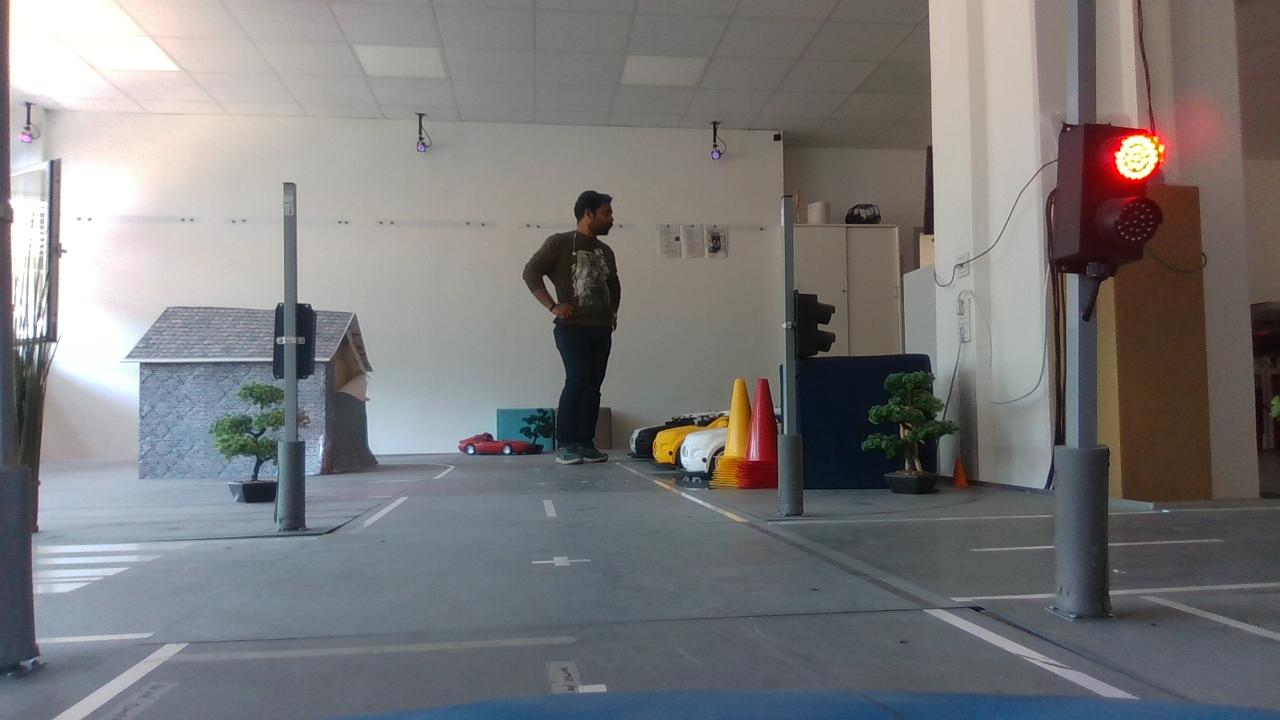traffic_light_red: (1031, 101, 1195, 288)
